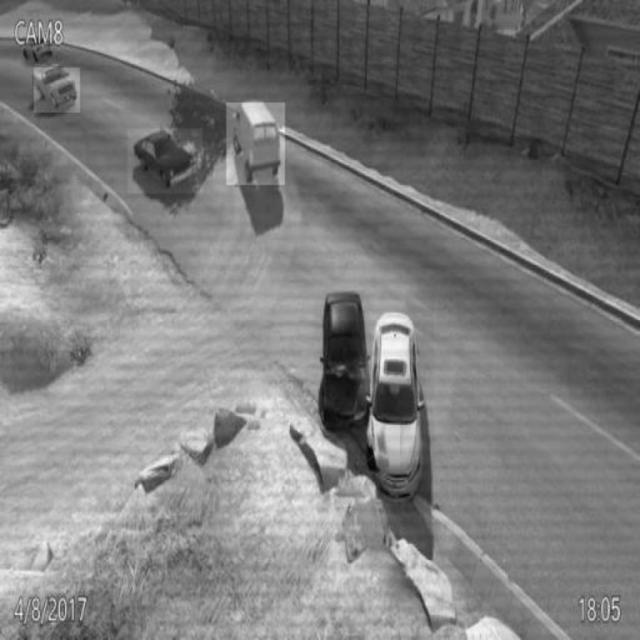accident: (323, 291, 434, 506)
vehicle: (226, 102, 284, 184), (128, 129, 202, 193), (34, 68, 80, 113)
